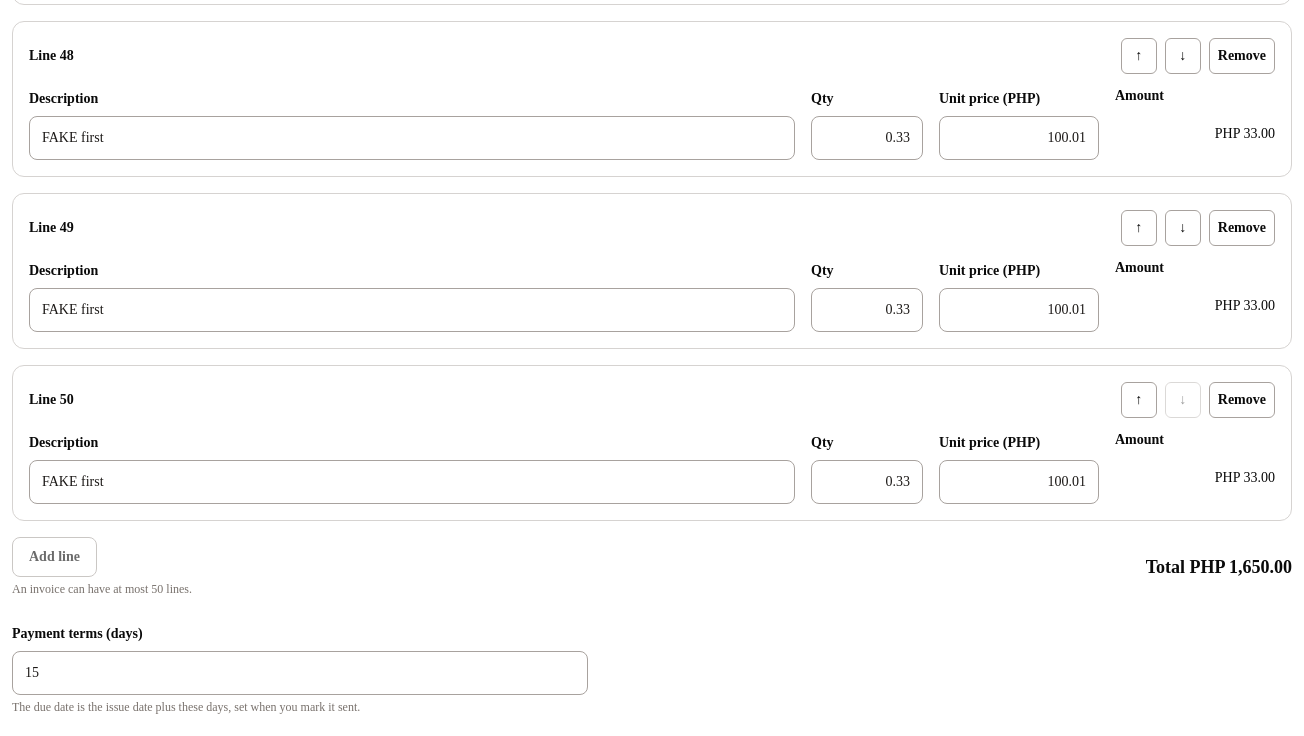
invoice forms (AC-1, AC-2, AC-3, AC-15) › disables Add line at 50 and reopens it when a line is removed
(page scrolled)
Expected: the button "Add line" is disabled, 12,537 -> 97,577
Click the button with aria-label "Remove line 50" at (1242, 400), box 1209,382 -> 1275,418
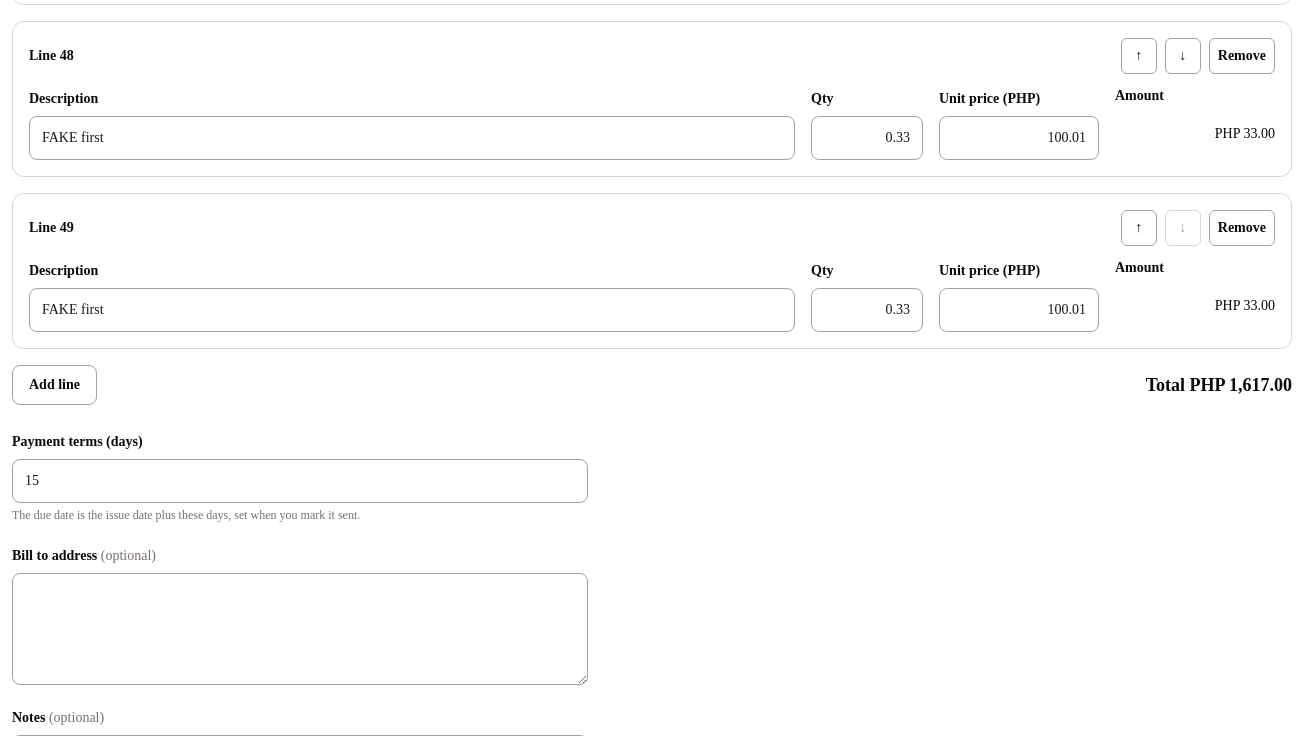
Result: the button "Add line" is enabled at 12,365 -> 97,405
